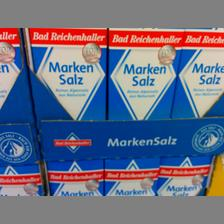Gewuerze: (25, 27, 105, 121), (106, 27, 184, 119), (171, 28, 219, 116)
